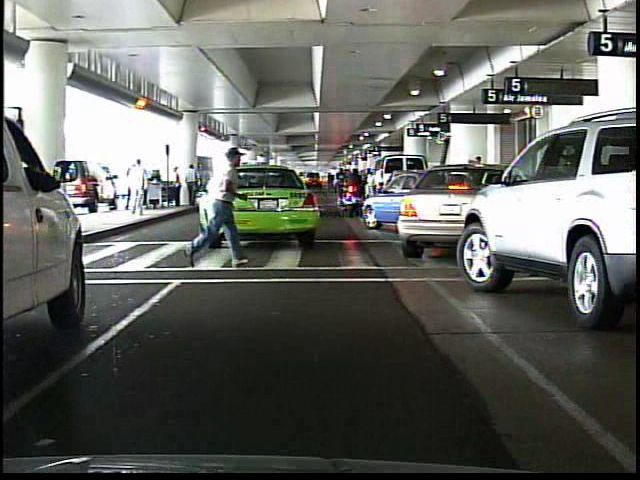person: (194, 147, 249, 271)
